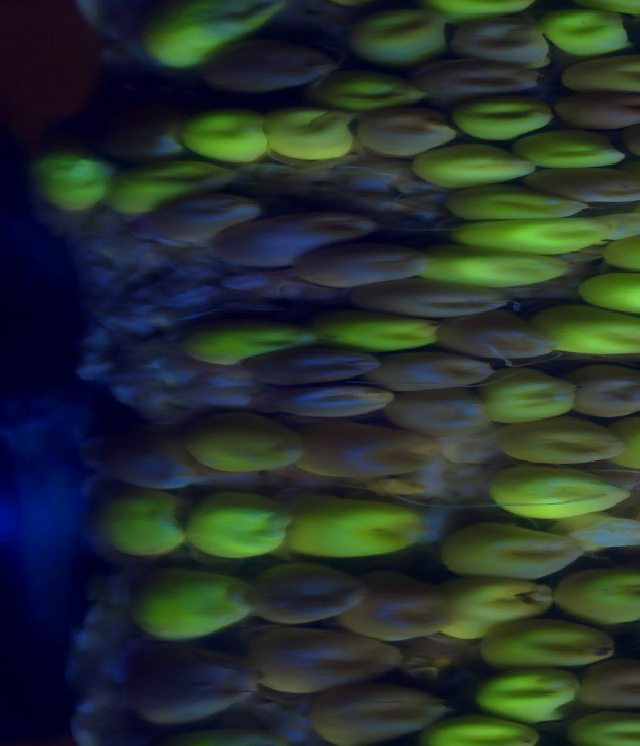fluorescent: (444, 529, 582, 584), (502, 479, 634, 536), (293, 507, 426, 559), (139, 575, 242, 642), (190, 492, 293, 559), (508, 421, 622, 472), (150, 7, 254, 62), (477, 624, 625, 662), (106, 492, 182, 565), (406, 140, 524, 184), (208, 321, 325, 365), (551, 308, 640, 363), (453, 218, 596, 252), (484, 668, 579, 717), (355, 14, 448, 63), (195, 424, 289, 472), (424, 253, 568, 284), (189, 110, 271, 163), (566, 565, 640, 623), (115, 159, 189, 216), (424, 714, 544, 746), (492, 379, 573, 426), (448, 584, 553, 620), (448, 192, 579, 220), (38, 162, 112, 211), (547, 10, 629, 53), (189, 107, 260, 156), (522, 136, 621, 171), (454, 105, 558, 137), (573, 273, 640, 321), (332, 76, 421, 107), (567, 55, 640, 89), (329, 327, 438, 347), (573, 713, 640, 745), (609, 236, 640, 272)
nonfluorescent: (128, 655, 255, 716), (213, 37, 344, 94), (302, 423, 421, 478), (319, 682, 438, 736), (264, 630, 399, 675), (351, 573, 445, 634), (257, 569, 357, 624), (453, 20, 553, 69), (390, 389, 493, 436), (416, 60, 532, 101), (232, 214, 361, 249), (444, 311, 547, 353), (153, 192, 250, 236), (316, 243, 409, 284), (374, 287, 500, 317), (384, 352, 490, 387), (113, 436, 193, 482), (261, 350, 380, 379), (364, 110, 450, 149), (583, 365, 640, 421), (554, 168, 640, 204), (555, 92, 640, 127), (276, 389, 390, 413), (592, 666, 640, 702)
